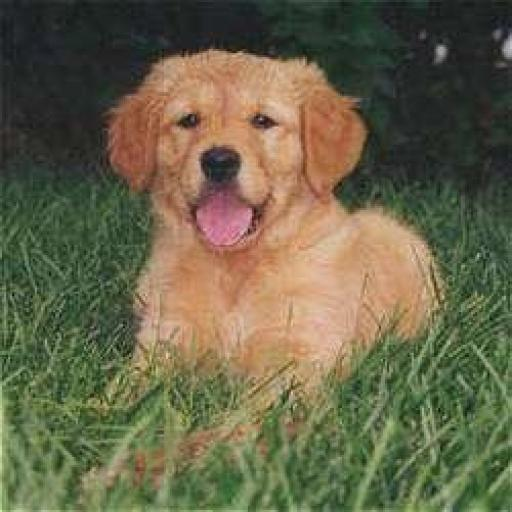dog_face: (108, 50, 368, 254)
